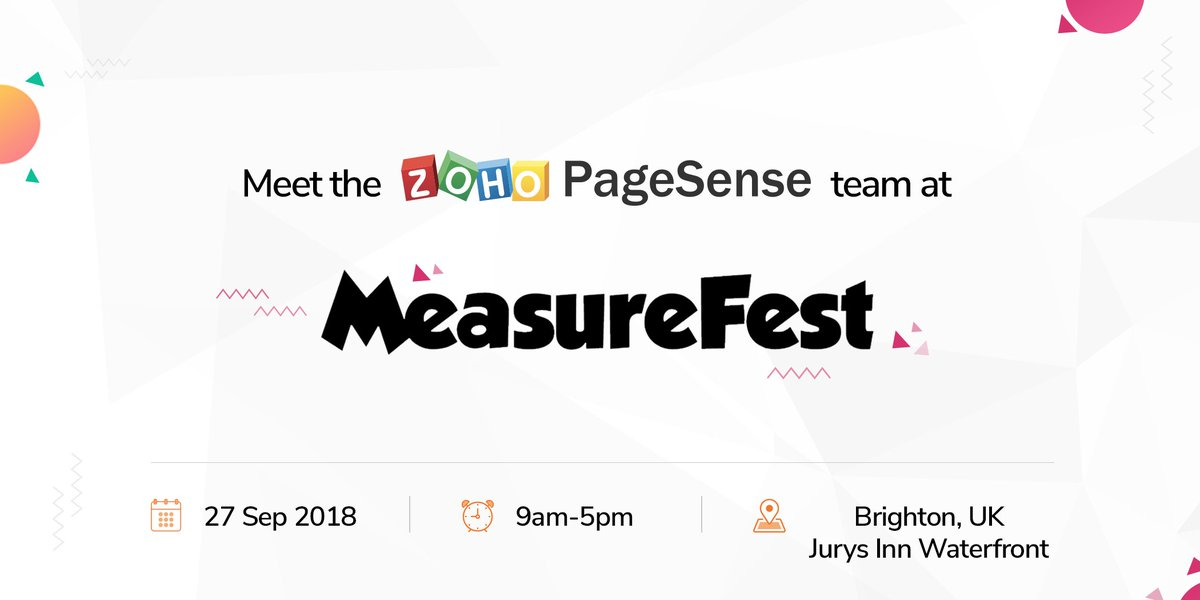zoho: (402, 149, 553, 204)
